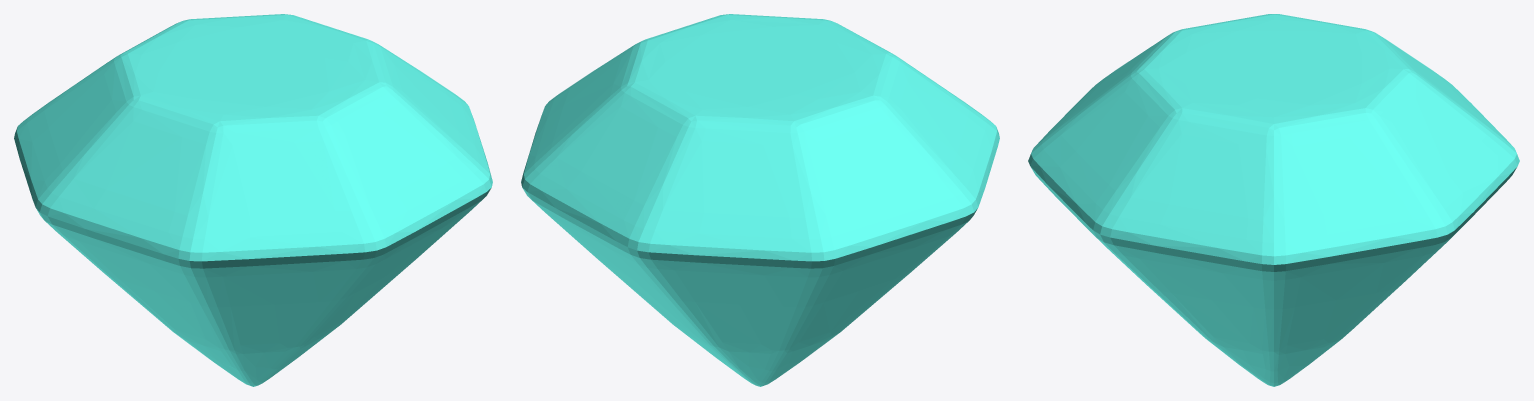
The model's file is Gem.glb.
3 views of the same model, side by side, from view 1: azimuth 30°, elevation 25°; view 2: azimuth 150°, elevation 25°; view 3: azimuth 270°, elevation 25° (orthographic).
Parts seen in each view (by area): view 1: Sphere001; view 2: Sphere001; view 3: Sphere001.
Boxes of the visible parts, x1,y1,x2,y2 form: Sphere001: (14, 14, 492, 386); Sphere001: (521, 14, 999, 386); Sphere001: (1028, 14, 1519, 386).
Size of the model in its own units: 221493 by 158461 by 221493.
